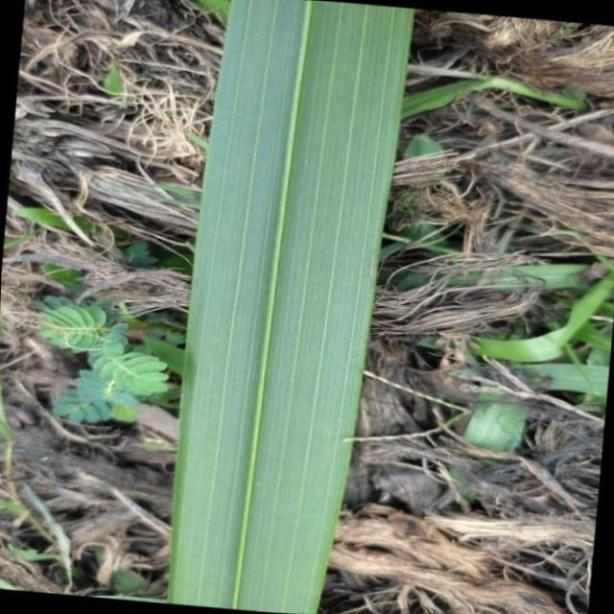Healthy: (168, 0, 409, 614)
